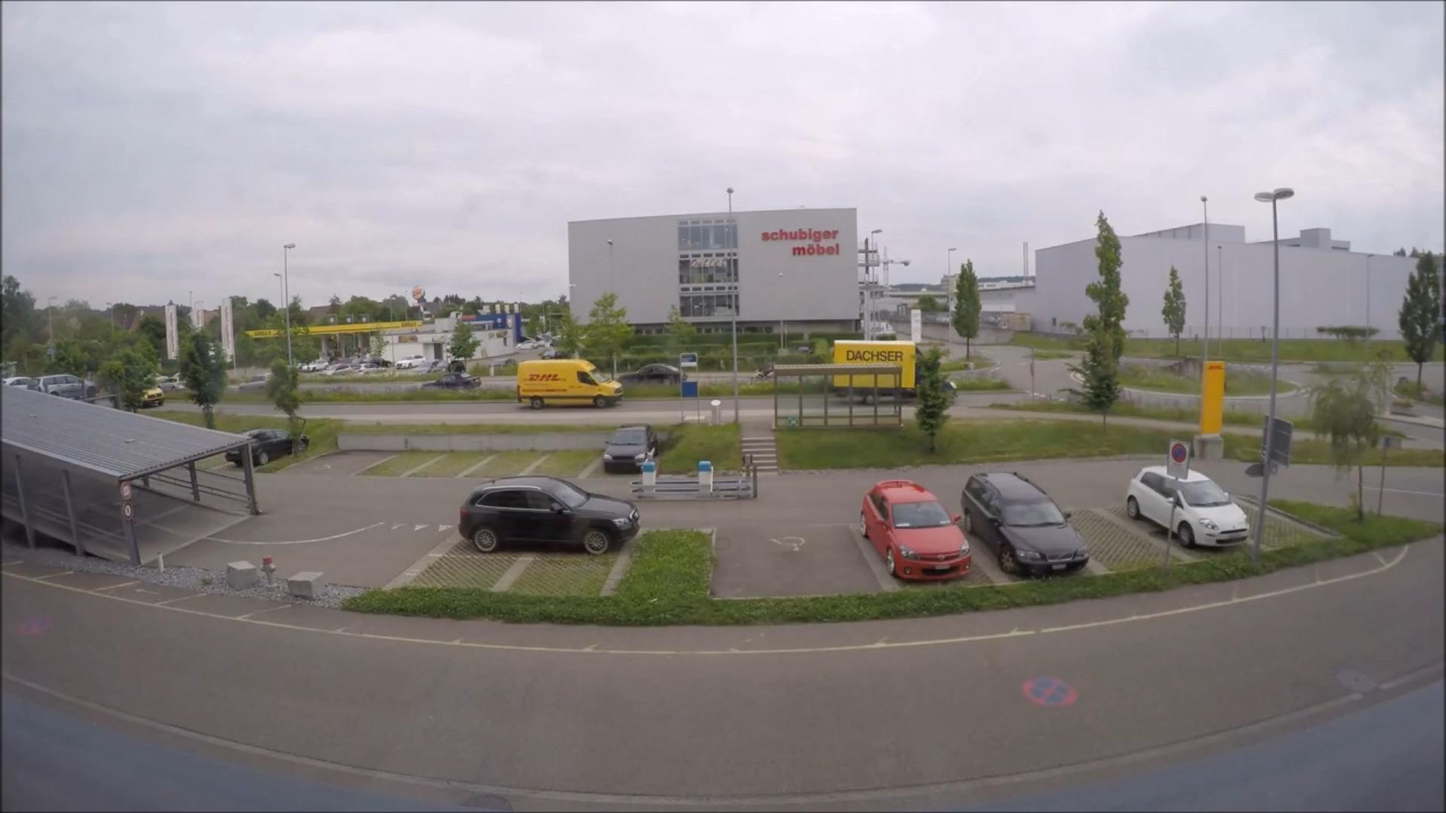occupied: (456, 474, 642, 556), (962, 469, 1092, 576), (865, 477, 973, 579), (1123, 464, 1250, 549), (223, 428, 309, 467), (602, 424, 659, 472), (30, 373, 90, 400), (617, 364, 684, 386), (421, 372, 482, 390), (131, 383, 166, 409), (156, 378, 188, 392), (3, 376, 34, 388)
